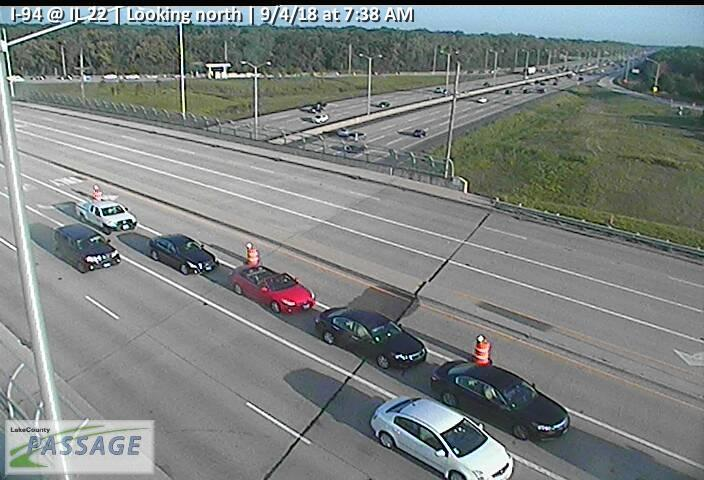SUV: (53, 222, 121, 273)
Sedan: (370, 395, 514, 480), (428, 358, 571, 441), (313, 306, 428, 369), (228, 262, 315, 315), (148, 233, 220, 276), (310, 114, 328, 124)
Truck: (74, 199, 137, 234)
